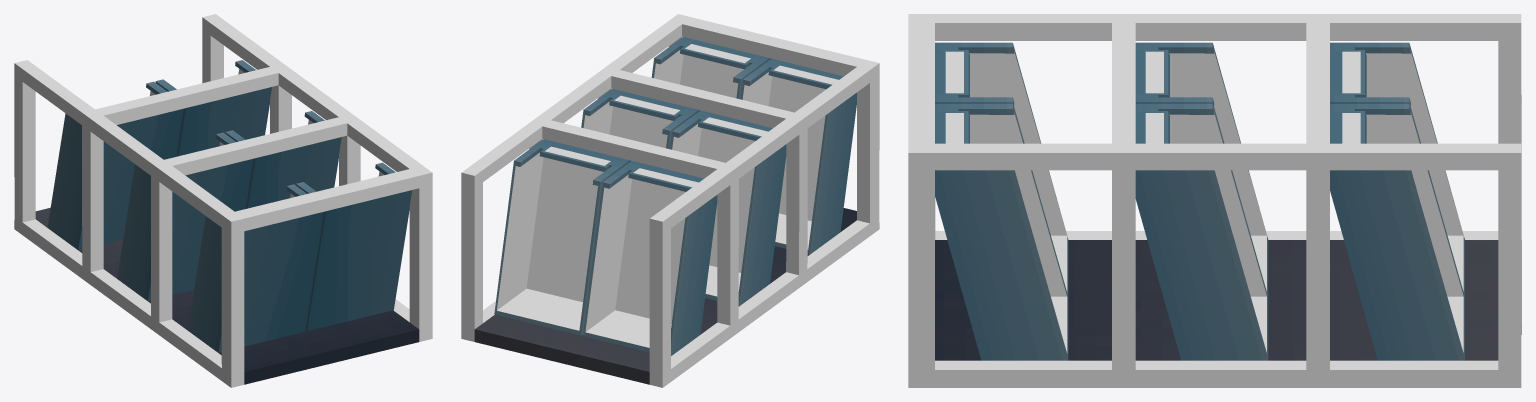
The model's file is Boxes Shelf.fbx.
3 views of the same model, side by side, from view 1: azimuth 30°, elevation 25°; view 2: azimuth 150°, elevation 25°; view 3: azimuth 270°, elevation 25° (orthographic). The views are drawn at different scales.
Parts seen in each view (by area): view 1: Rack, orange basket slanted.003; view 2: orange basket slanted.003, Rack; view 3: Rack, orange basket slanted.003.
Boxes of the visible parts, x1,y1,x2,y2 form: Rack: (14, 14, 432, 387); orange basket slanted.003: (47, 60, 412, 352); orange basket slanted.003: (494, 37, 856, 355); Rack: (461, 14, 879, 387); Rack: (908, 14, 1521, 387); orange basket slanted.003: (935, 42, 1464, 360).
Size of the model in its own units: 464 by 366 by 866.
2 materials, 2 textured.
